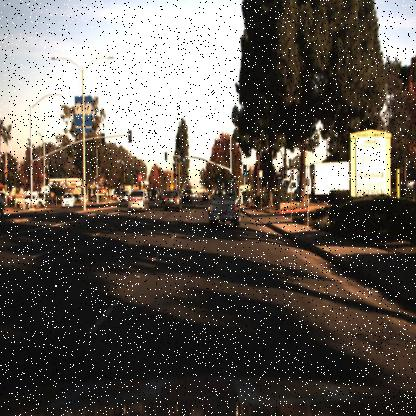car: (206, 181, 242, 225), (125, 187, 149, 214), (162, 186, 182, 214), (25, 192, 48, 212), (59, 191, 74, 209), (182, 188, 194, 206), (199, 190, 209, 204)
trafficLight-Green: (229, 172, 236, 186), (242, 164, 247, 179), (181, 151, 186, 165)
trafficLight-GreenLeft: (163, 148, 168, 162)
truck: (300, 152, 356, 198)
